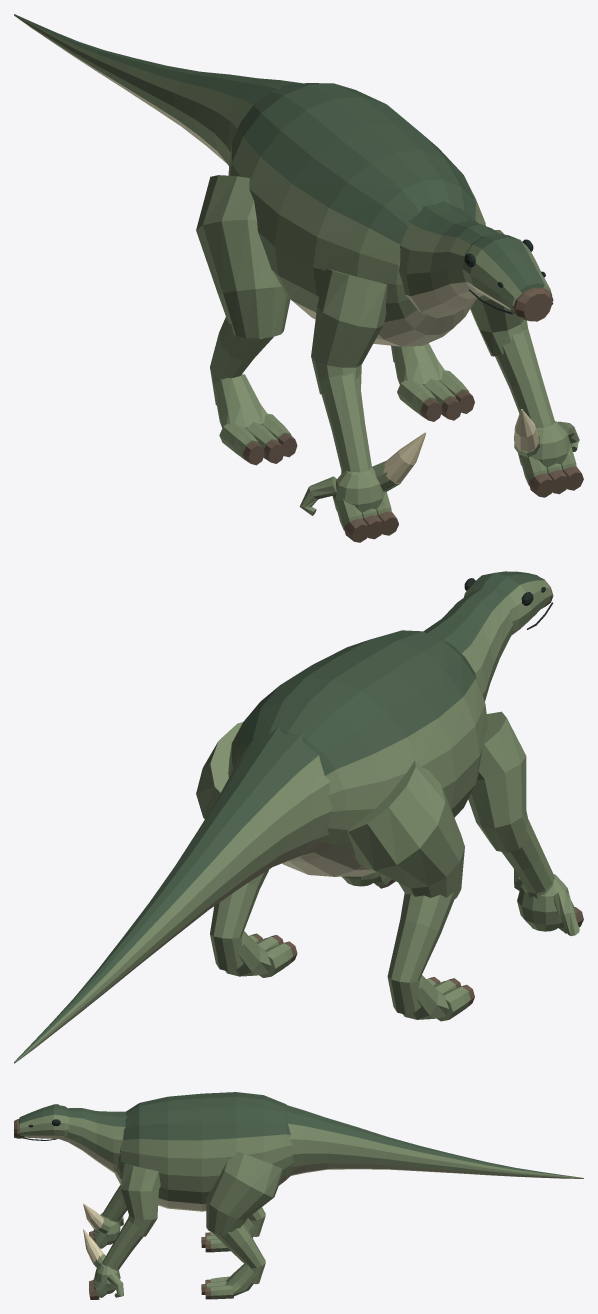
3 renders of one model, top to bottom at view 1: azimuth 30°, elevation 25°; view 2: azimuth 150°, elevation 25°; view 3: azimuth 270°, elevation 25°, orthographic. The views are drawn at different scales.
Visible parts, largest first — view 1: iguanodon_static_export; view 2: iguanodon_static_export; view 3: iguanodon_static_export.
Part boxes in pixels (x1,y1,x2,y2): iguanodon_static_export: [14, 14, 583, 542]; iguanodon_static_export: [14, 571, 583, 1063]; iguanodon_static_export: [14, 1092, 583, 1299].
Bounding box in the file's own units: 3.08 × 3.38 × 10.
